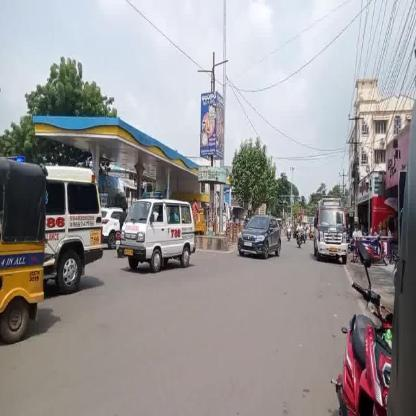priority: (45, 165, 100, 293), (119, 196, 195, 276), (310, 192, 350, 258)
